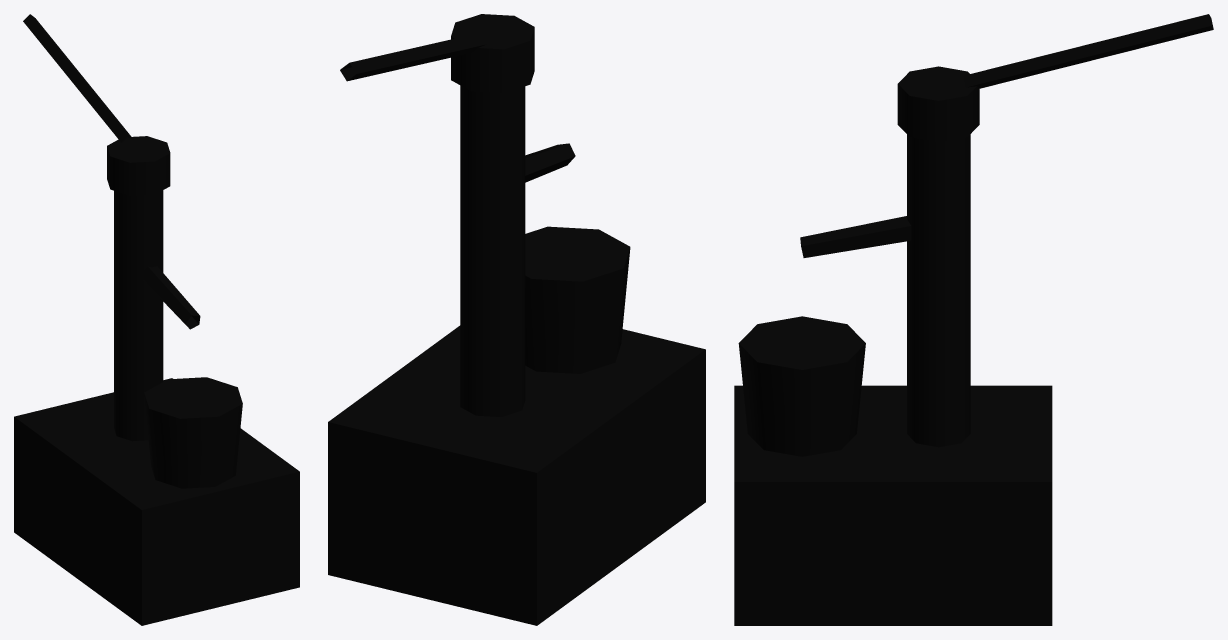
The model's file is SM_water_pump.fbx.
3 renders of one model, left to right at view 1: azimuth 30°, elevation 25°; view 2: azimuth 150°, elevation 25°; view 3: azimuth 270°, elevation 25°, orthographic. The views are drawn at different scales.
Visible parts, largest first — view 1: water_pump, water_pump_handle; view 2: water_pump, water_pump_handle; view 3: water_pump, water_pump_handle.
Boxes of the visible parts, box(x1,y1,x2,y2) form: water_pump: box(14, 136, 299, 625); water_pump_handle: box(23, 14, 133, 142); water_pump: box(328, 14, 705, 625); water_pump_handle: box(340, 33, 486, 81); water_pump: box(734, 66, 1052, 625); water_pump_handle: box(963, 14, 1213, 88).
Bounding box in the file's own units: 0.5 × 1.37 × 1.06.
